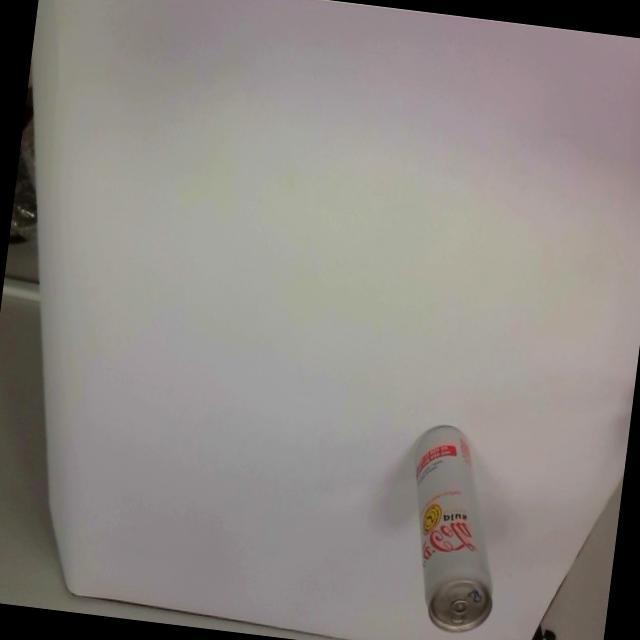debris: (394, 420, 514, 638)
